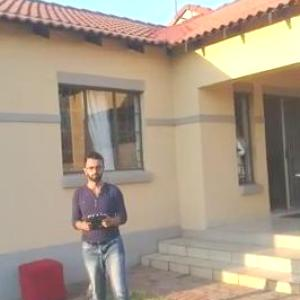follow: (66, 144, 136, 299)
